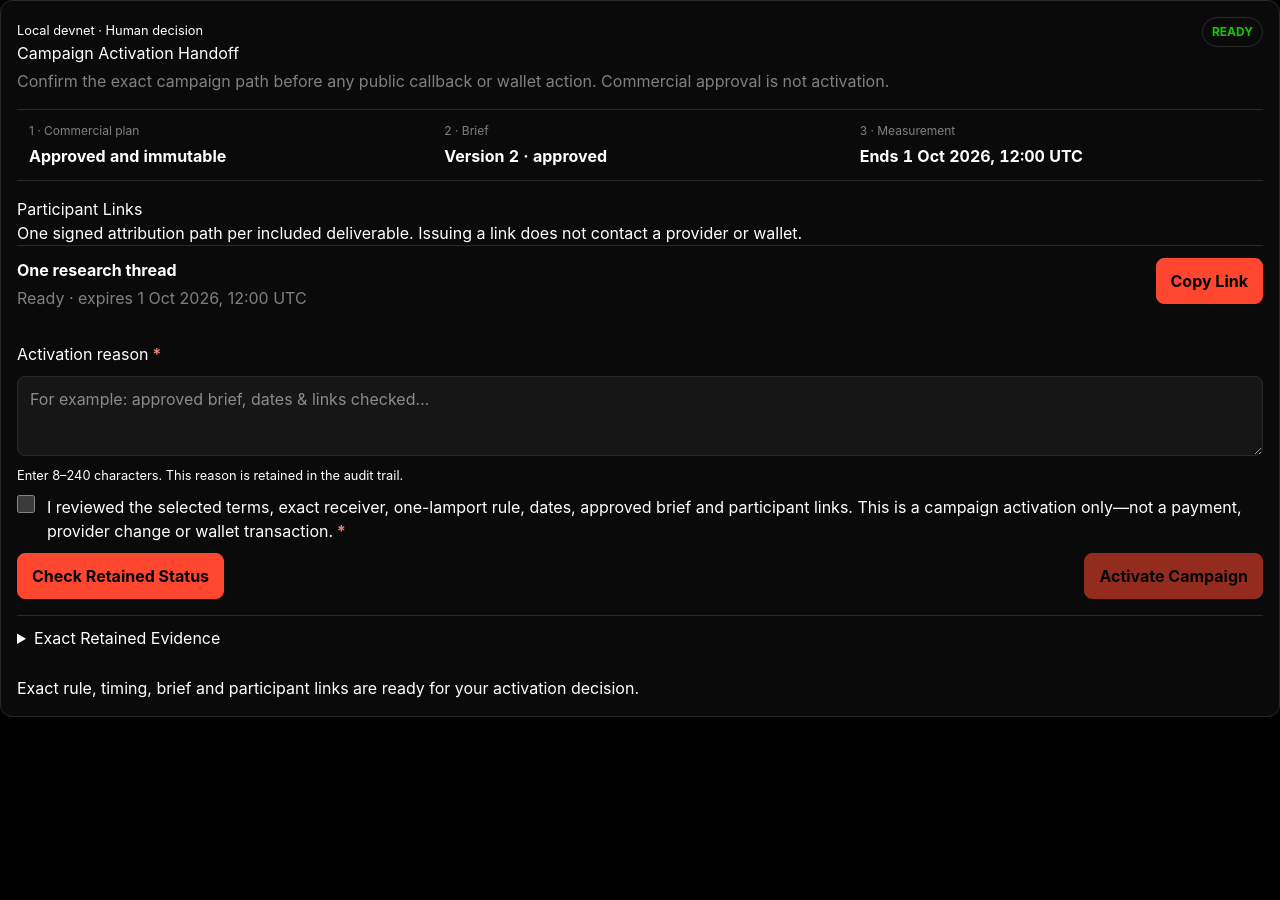
clears a displayed link when a later retained read fails
The width and height of the screenshot is (1280, 900).
Click the button with aria-label "Copy signed link for" at (1209, 281), box [1156,258,1263,304]
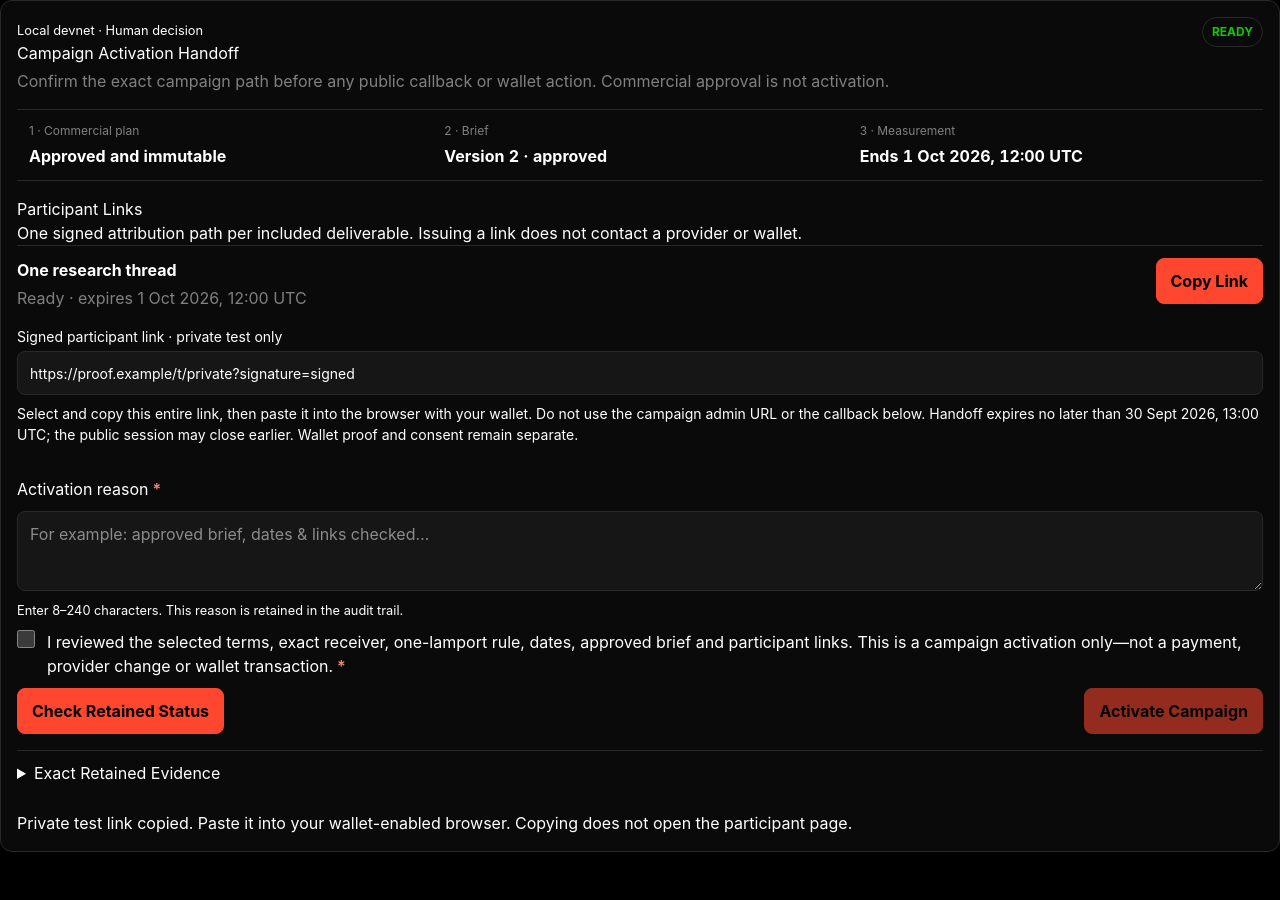
Expected: the field labelled "Signed participant link · private test only" is shown, [17,351,1263,395]
Click the button "Check Retained Status" at (121, 711), box [17,688,224,734]
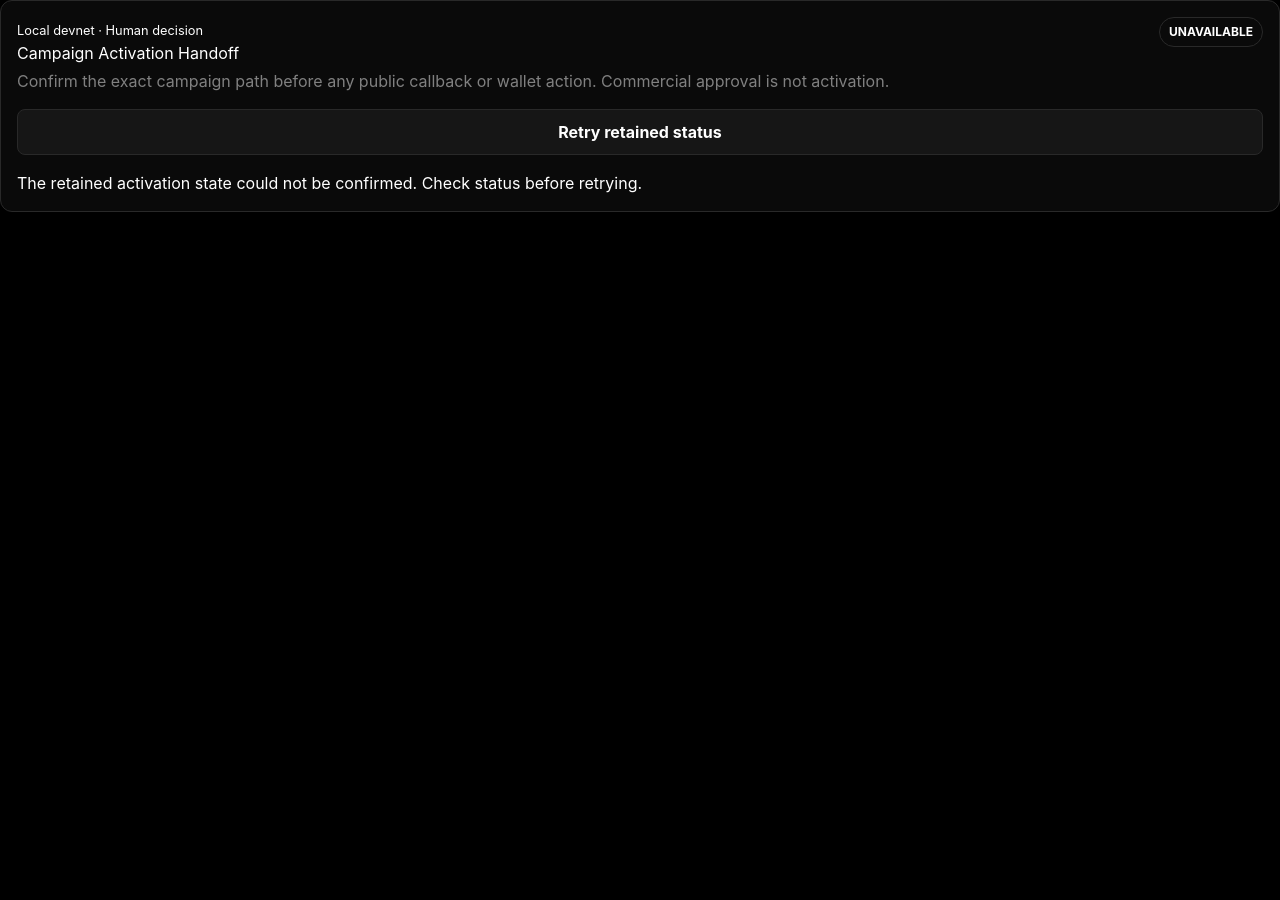
Expected: the text "The retained activation state could not be confirmed" is shown, [17,173,642,193]
Expected: the label "Signed participant link" is gone
